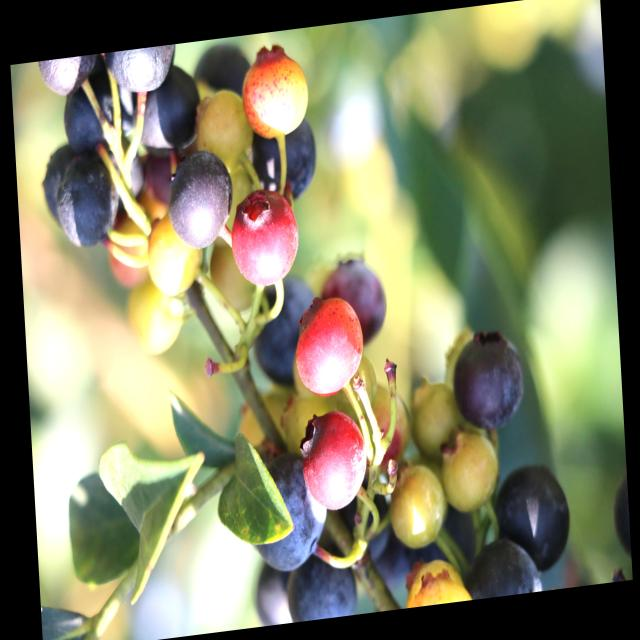blueberry: (250, 452, 330, 574), (491, 461, 572, 573), (248, 275, 321, 392), (452, 333, 524, 433), (167, 151, 236, 251), (318, 258, 387, 356), (254, 113, 322, 210), (286, 540, 360, 622), (133, 67, 204, 152), (58, 157, 118, 245), (62, 82, 120, 159), (472, 535, 540, 599), (108, 44, 180, 99), (256, 568, 297, 625)
blueberry-halfripe: (290, 300, 369, 404), (301, 406, 373, 520), (229, 189, 300, 292)
blueberry-unripe: (438, 430, 505, 522), (143, 212, 204, 302), (388, 458, 446, 552), (192, 88, 255, 168), (126, 277, 188, 355), (406, 379, 459, 465)
